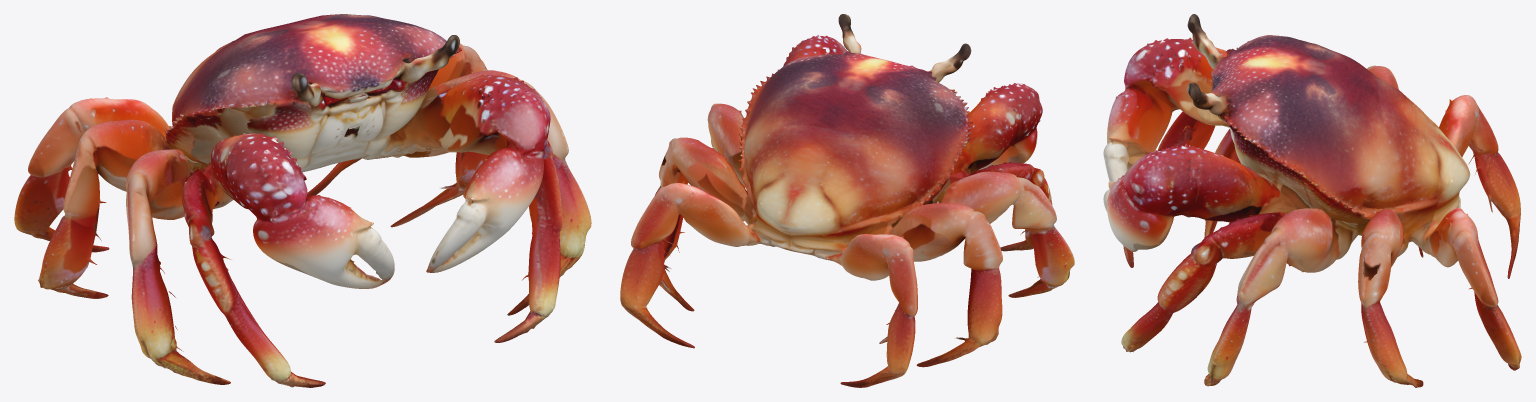
File: krab.glb
3 renders of one model, left to right at view 1: azimuth 30°, elevation 25°; view 2: azimuth 150°, elevation 25°; view 3: azimuth 270°, elevation 25°, orthographic. The views are drawn at different scales.
Parts seen in each view (by area): view 1: model; view 2: model; view 3: model.
Boxes of the visible parts, bbox=[...] form: model: bbox=[14, 14, 591, 387]; model: bbox=[620, 14, 1074, 387]; model: bbox=[1103, 14, 1521, 387].
Size of the model in its own units: 1.9 by 1.2 by 1.67.
Materials: 1 (1 with a texture image).
